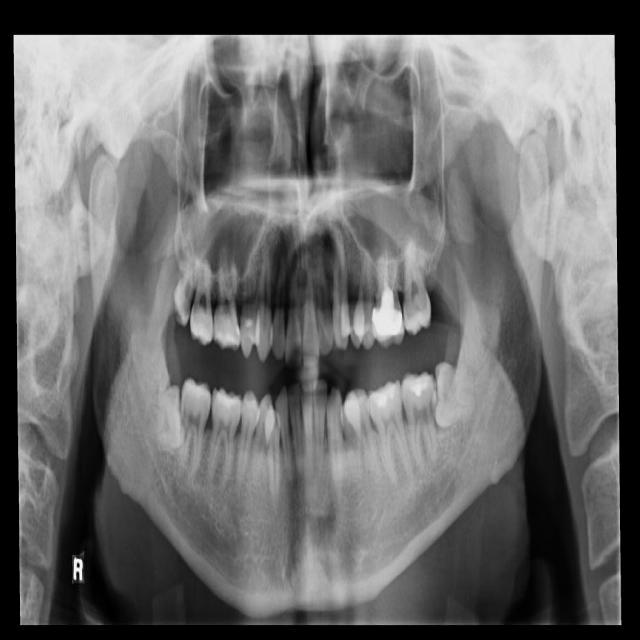Crown: (371, 291, 405, 349)
Filling: (370, 384, 397, 405), (404, 376, 428, 395)
Root Canal Treatment: (383, 236, 386, 280), (394, 250, 397, 281)
impacted tooth: (123, 386, 182, 446), (432, 364, 481, 425)
